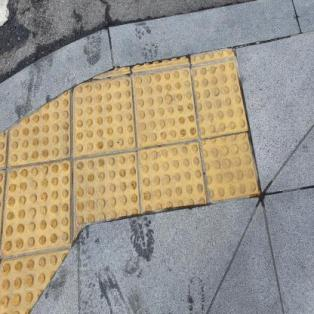Podoctatil: (0, 43, 266, 313)
